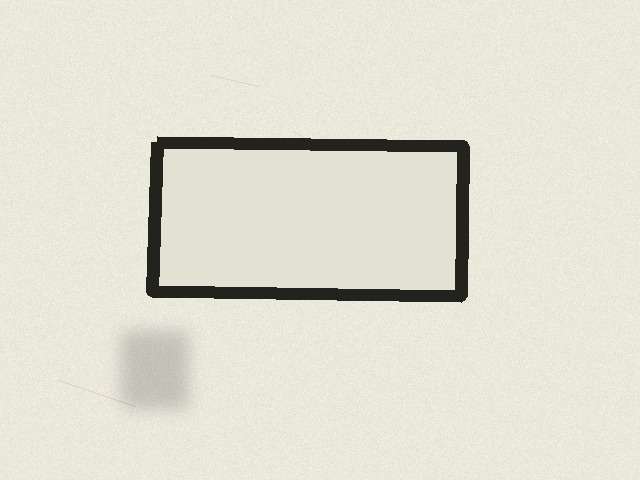parking_area: (152, 142, 463, 296)
